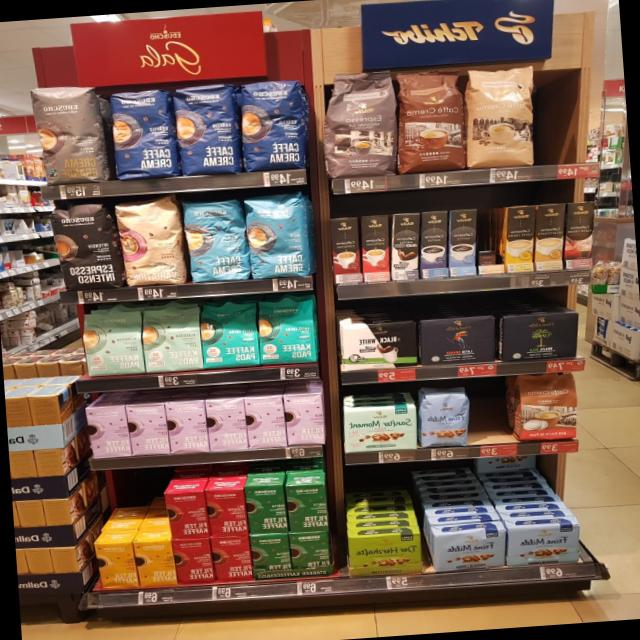BM Gemahlen: (497, 309, 582, 363)
BW Gemahlen: (337, 320, 419, 372)
CC Mild: (461, 64, 542, 170)
CC Vollmundig: (514, 372, 582, 444)
CC Vollmundig 36 Pads: (394, 66, 468, 175)
Empty Shelf: (467, 382, 518, 444), (477, 207, 504, 266)
Espresso M Art: (320, 69, 399, 180)
FM Bohne: (414, 386, 472, 448)
FM Gemahlen: (504, 523, 584, 568), (431, 528, 508, 572)
Herzhatfe Mundig: (346, 532, 423, 578)
LG Gemahlen: (418, 314, 498, 366)
SM Gemahlen: (340, 403, 418, 453)
Simo CC Colombia: (564, 202, 593, 269)
Simo CCMild bigpack: (506, 205, 535, 273)
Simo Decaff: (534, 203, 564, 271)
Simo Es Brazil: (359, 215, 391, 282)
Simo Es Caramel: (330, 216, 360, 284)
Simo Es Elegant: (392, 213, 419, 281)
Simo Es Kraft: (420, 210, 447, 279)
Simo Es Vanilla: (449, 208, 476, 276)
